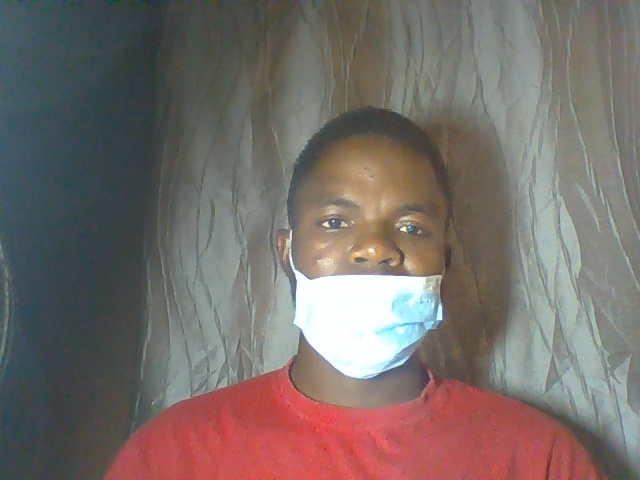MaskOff: (267, 105, 460, 397)
